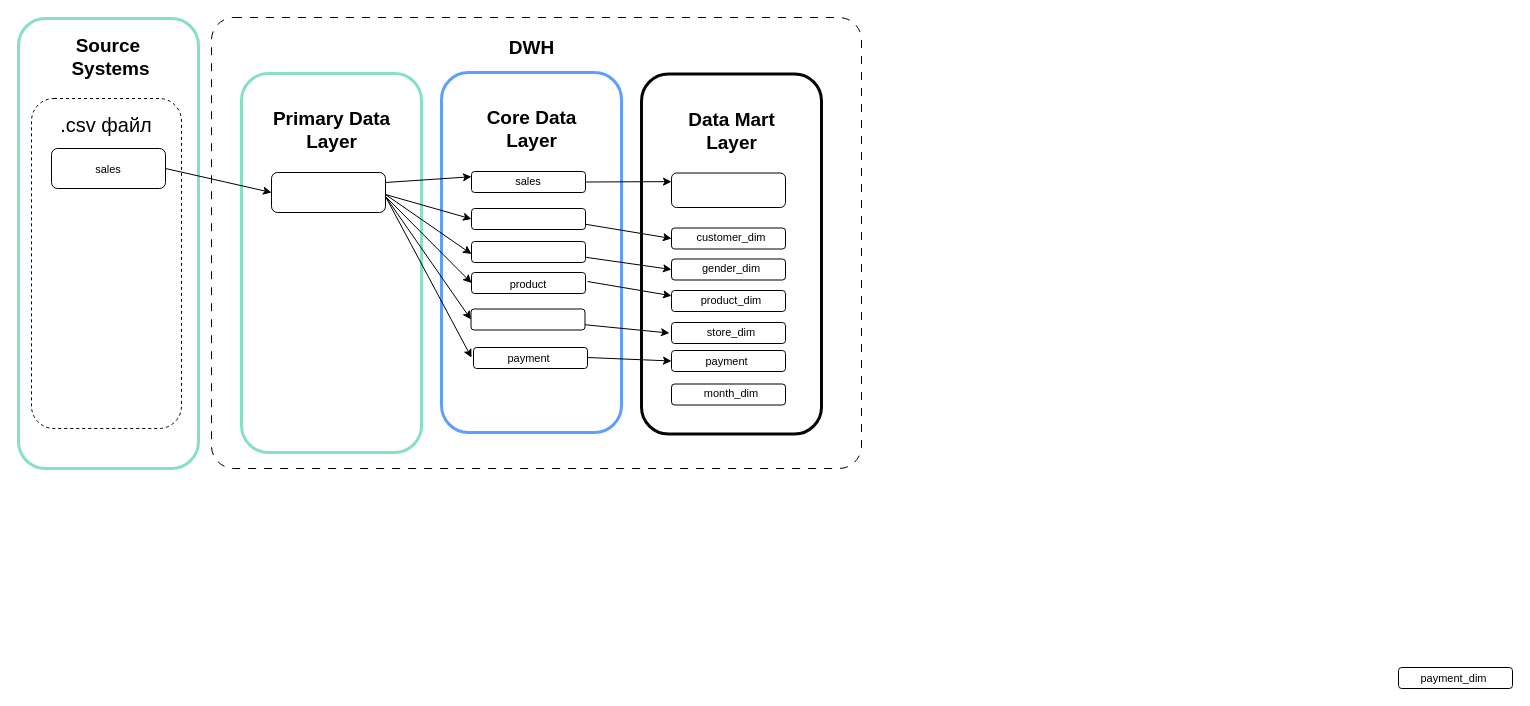
Image size: 1530x706. Some labels were removed from this diagram. Each missing label, with the box of its shape:
customer_type: (470, 208, 586, 230)
gender: (470, 240, 586, 262)
sales_fact: (670, 172, 786, 208)
sales_raw_layer: (270, 172, 386, 212)
store: (470, 308, 585, 330)
